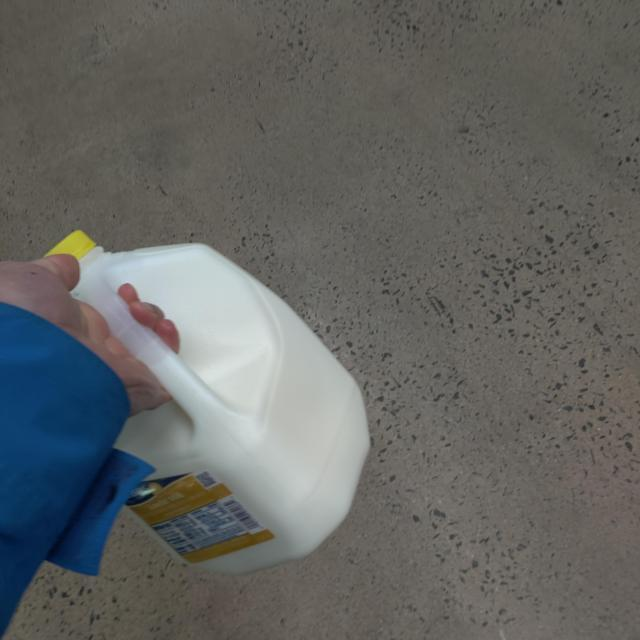Milk: (25, 190, 391, 588)
